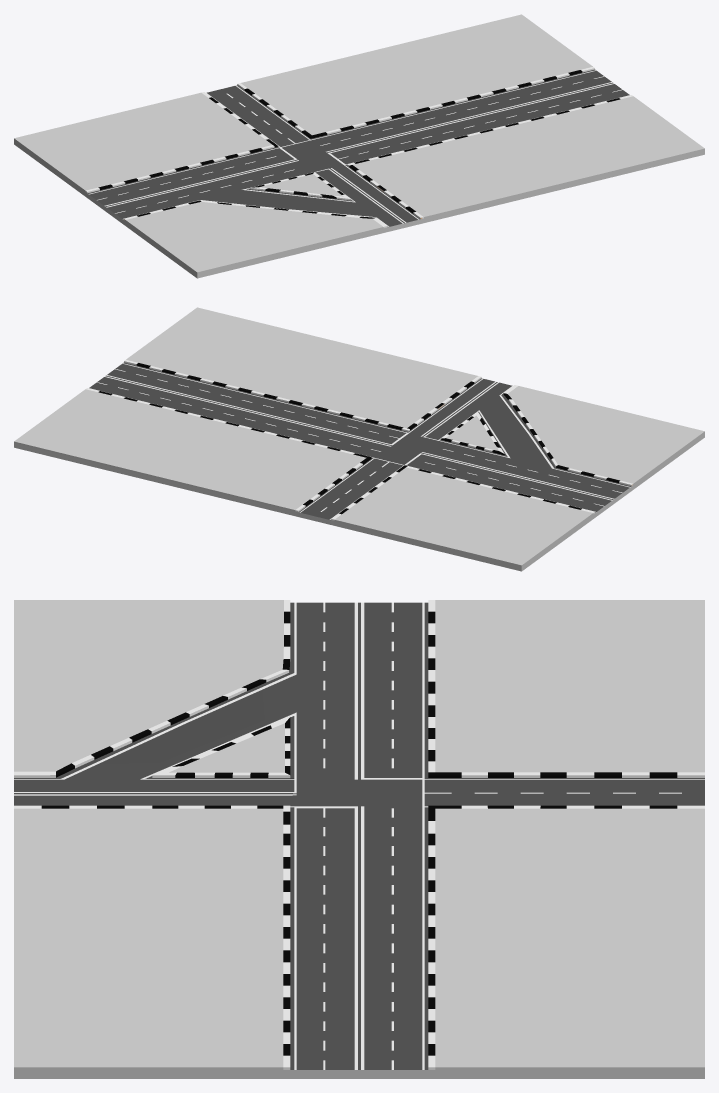
The model's file is Level5Road.FBX.
The picture shows the model from 3 angles, top to bottom: view 1: azimuth 30°, elevation 25°; view 2: azimuth 150°, elevation 25°; view 3: azimuth 270°, elevation 25°; orthographic projection. The views are drawn at different scales.
Visible parts, largest first — view 1: level 5 road; view 2: level 5 road; view 3: level 5 road.
Boxes of the visible parts, left/top/right/bottom form: level 5 road: left=14, top=14, right=704, bottom=278; level 5 road: left=14, top=307, right=704, bottom=571; level 5 road: left=14, top=600, right=704, bottom=1078.
Size of the model in its own units: 4409 by 51.18 by 2756.
